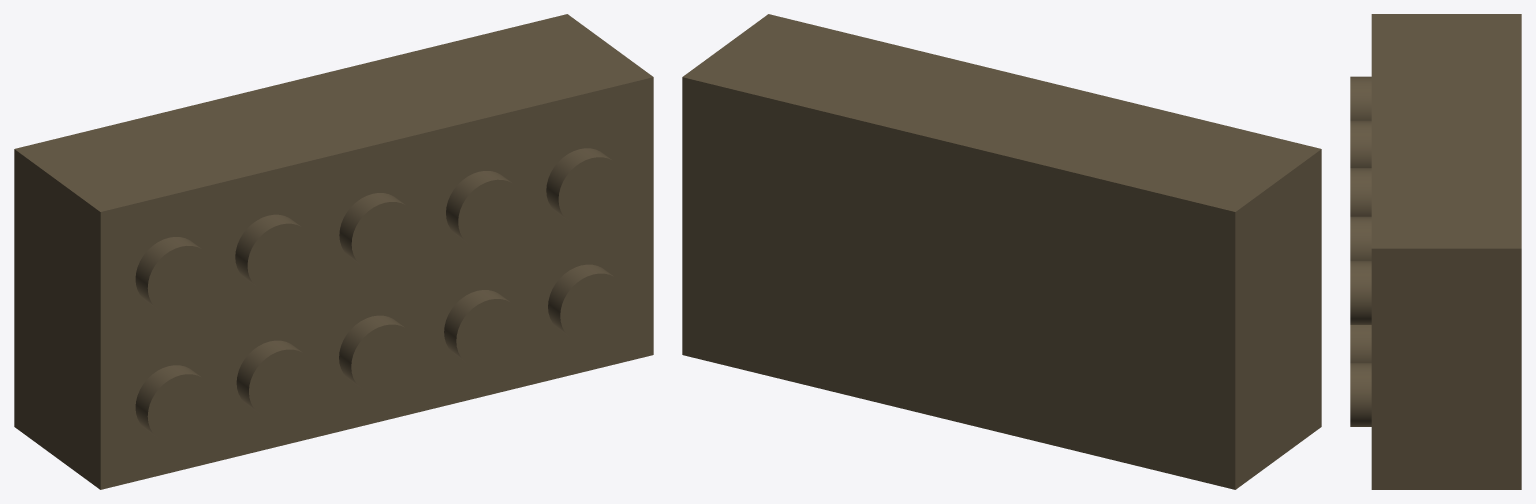
The model's file is brick-large-kimbie-dark.glb.
The picture shows the model from 3 angles, left to right: view 1: azimuth 30°, elevation 25°; view 2: azimuth 150°, elevation 25°; view 3: azimuth 270°, elevation 25°; orthographic projection. The views are drawn at different scales.
Size of the model in its own units: 1 by 0.48 by 0.3084.
